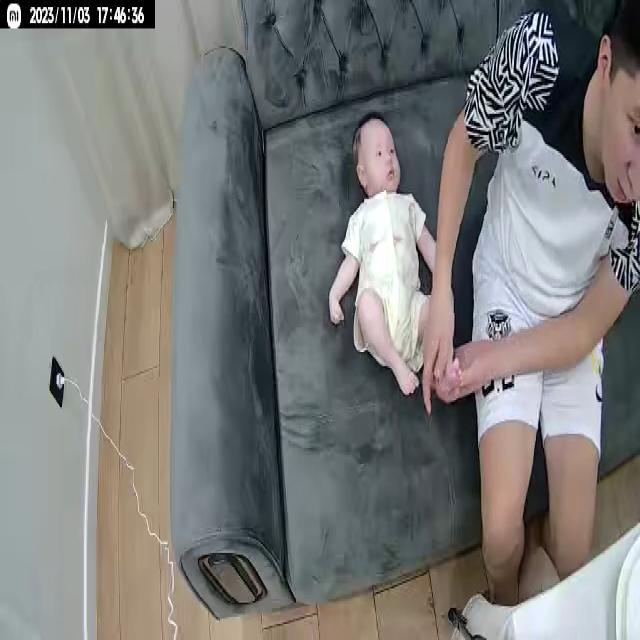baby: (325, 110, 465, 420)
